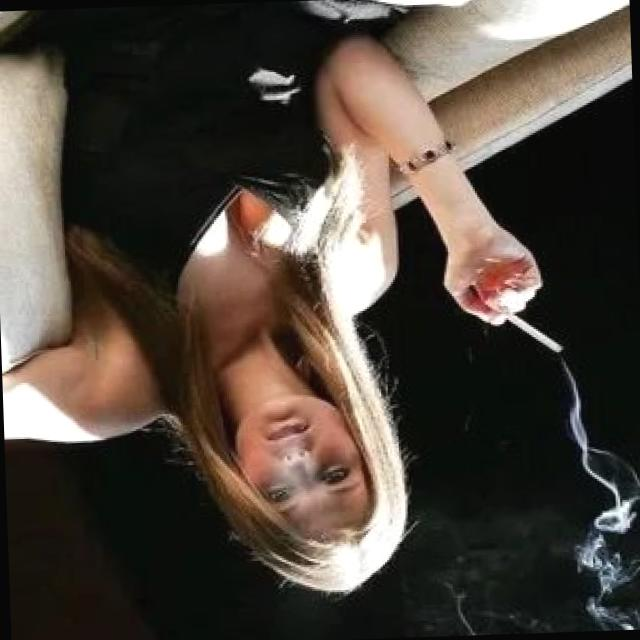cigarette: (494, 301, 570, 364)
